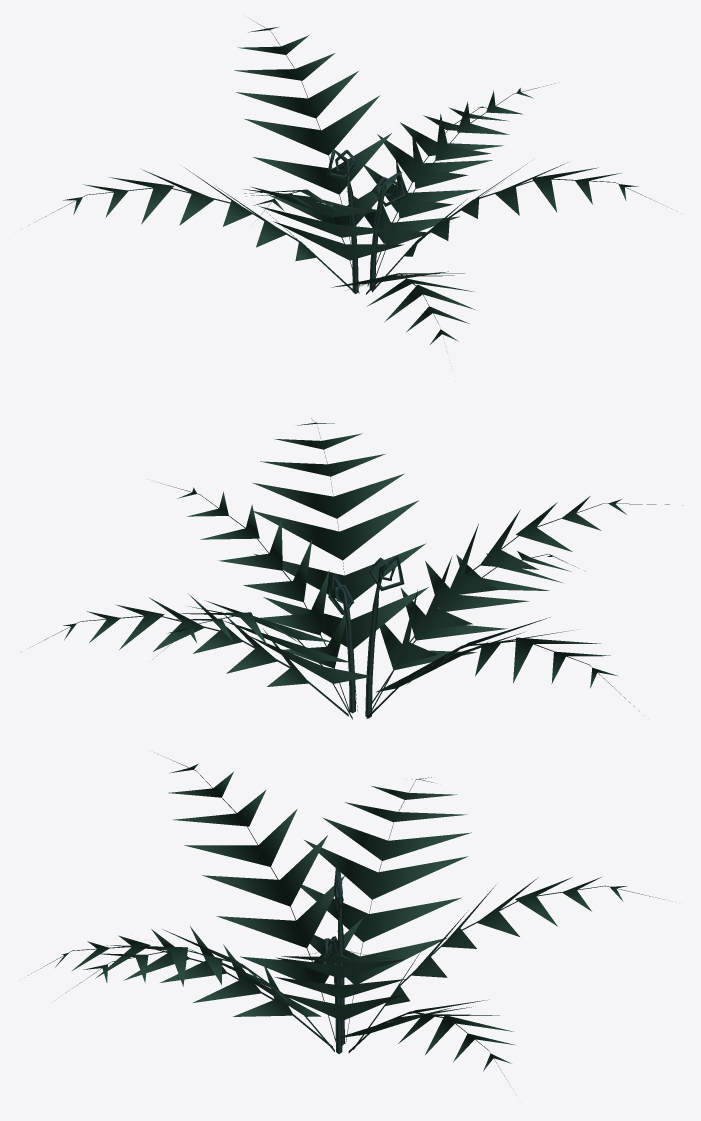
The model's file is fern_lod1.glb.
The picture shows the model from 3 angles, top to bottom: view 1: azimuth 30°, elevation 25°; view 2: azimuth 150°, elevation 25°; view 3: azimuth 270°, elevation 25°; orthographic projection. The views are drawn at different scales.
Parts seen in each view (by area): view 1: fern_lod1; view 2: fern_lod1; view 3: fern_lod1.
Part boxes in pixels (box(x1,y1,x2,y2)): fern_lod1: box(34, 18, 681, 344); fern_lod1: box(28, 418, 682, 719); fern_lod1: box(28, 752, 669, 1079).
Bounding box in the file's own units: 1.97 × 0.6397 × 1.97.
